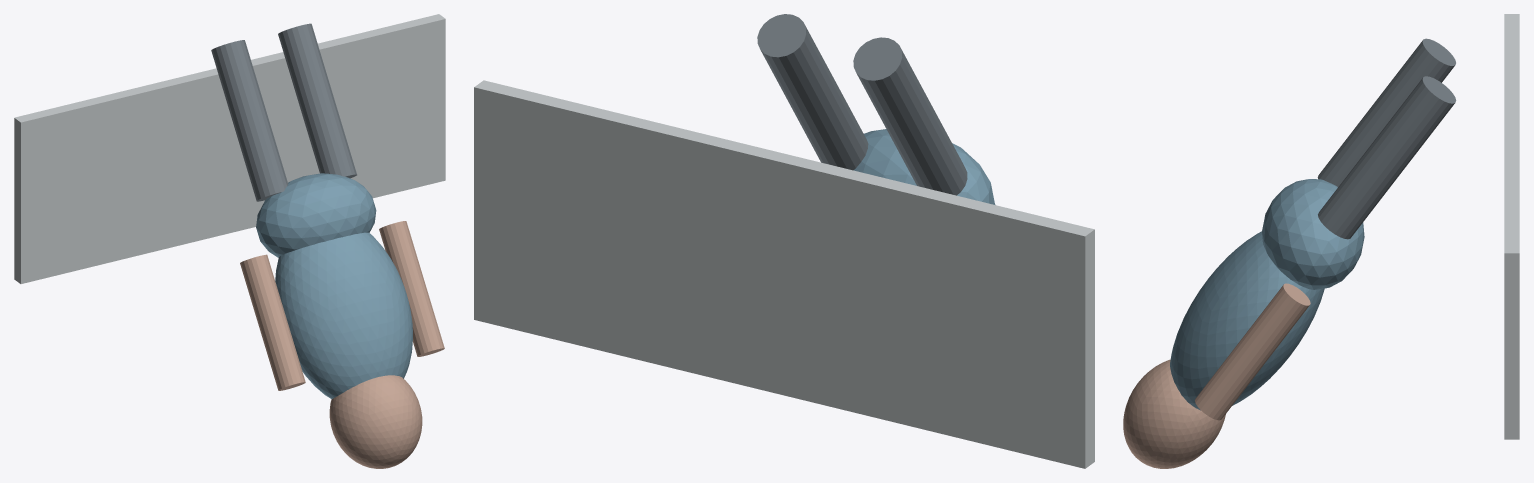
The model's file is semi-seated-high.glb.
3 views of the same model, side by side, from view 1: azimuth 30°, elevation 25°; view 2: azimuth 150°, elevation 25°; view 3: azimuth 270°, elevation 25° (orthographic). The views are drawn at different scales.
Parts seen in each view (by area): view 1: reference_surface, torso, pelvis, head, left_leg, right_leg, left_arm, right_arm; view 2: reference_surface, left_leg, right_leg, pelvis; view 3: torso, right_leg, pelvis, reference_surface, head, right_arm, left_leg.
Part boxes in pixels (x1,y1,x2,y2): reference_surface: (14, 14, 445, 283); torso: (275, 232, 412, 398); pelvis: (256, 173, 376, 257); head: (329, 375, 422, 468); left_leg: (211, 40, 287, 201); right_leg: (278, 23, 356, 178); left_arm: (240, 254, 305, 390); right_arm: (379, 221, 444, 356); reference_surface: (474, 80, 1094, 468); left_leg: (853, 37, 967, 195); right_leg: (757, 14, 868, 170); pelvis: (853, 129, 994, 204); torso: (1170, 231, 1324, 410); right_leg: (1318, 76, 1456, 239); pelvis: (1262, 179, 1364, 289); reference_surface: (1504, 14, 1519, 439); head: (1123, 359, 1225, 468); right_arm: (1195, 283, 1310, 420); left_leg: (1317, 38, 1455, 186).
Bounding box in the file's own units: 4.4 × 3.46 × 3.08.
